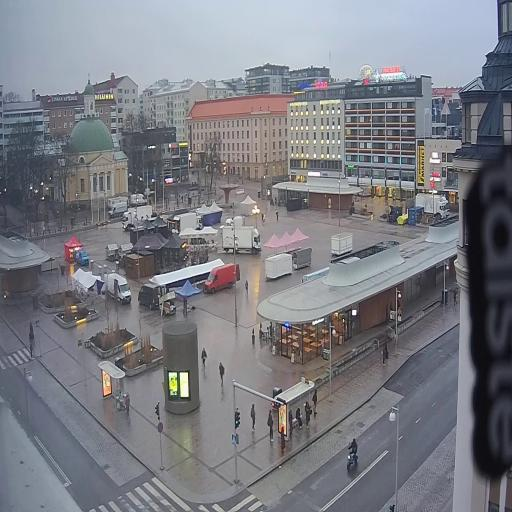delivery: (202, 254, 243, 298), (218, 223, 264, 260), (137, 273, 166, 318), (104, 270, 133, 310), (171, 205, 206, 236), (120, 202, 156, 231), (414, 191, 447, 222), (222, 208, 251, 230), (108, 196, 130, 222), (74, 244, 92, 272), (130, 186, 150, 208)
two-wheels: (343, 431, 363, 478)
